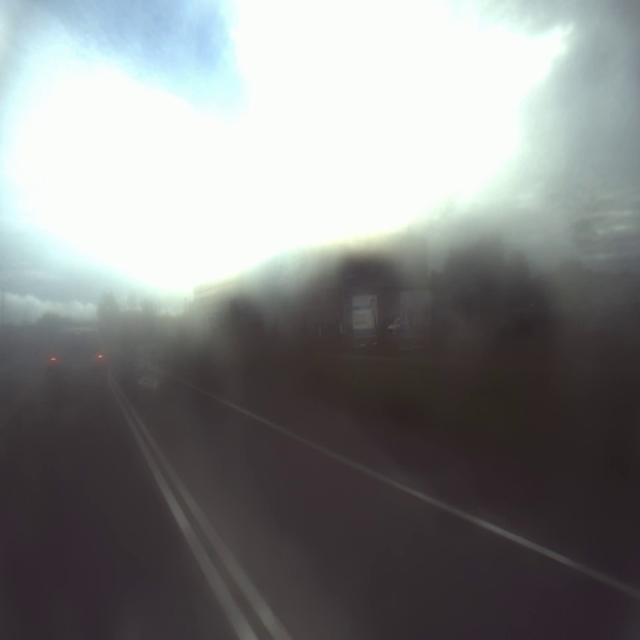car: (50, 314, 106, 407)
